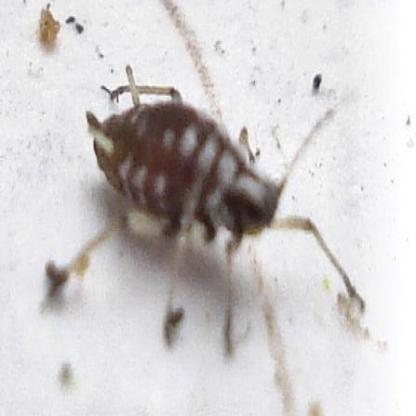aphid: (69, 66, 349, 334)
